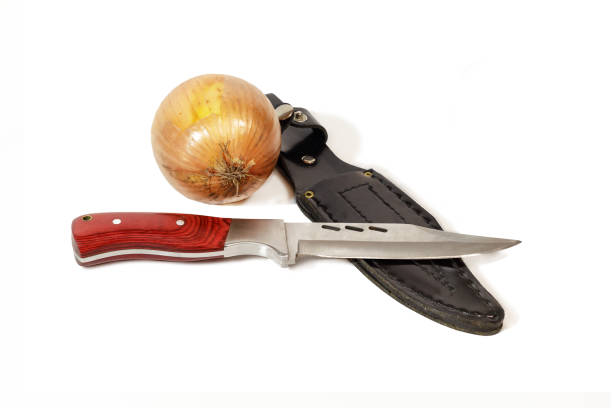knife: (66, 209, 527, 272)
